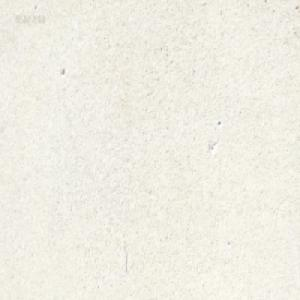Wrench: (123, 0, 129, 4)
